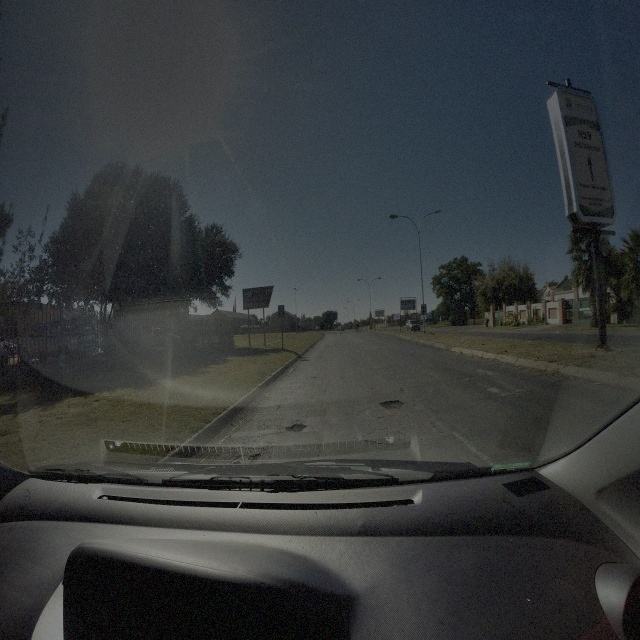pothole: (379, 398, 404, 412), (285, 420, 309, 434), (247, 453, 262, 462)
